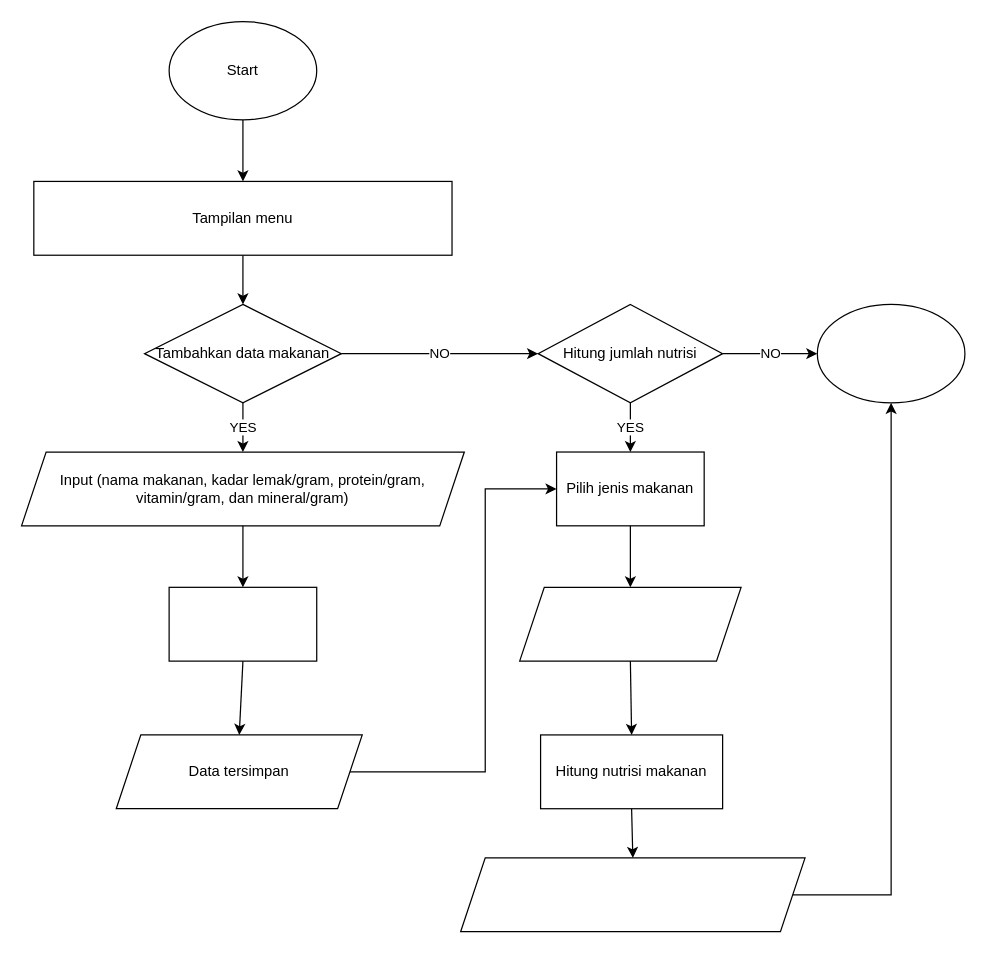
Some shapes in this 986 by 953 pixel diagram are drawn without their labels. The box of each missing label's shape, as (x1, y1, x2, y2) in pixels:
End: (816, 303, 965, 403)
input berat makanan (gram): (518, 586, 741, 661)
Nutrisi yang terkandung dalam makanan: (459, 857, 805, 932)
Simpan data: (168, 586, 317, 661)
